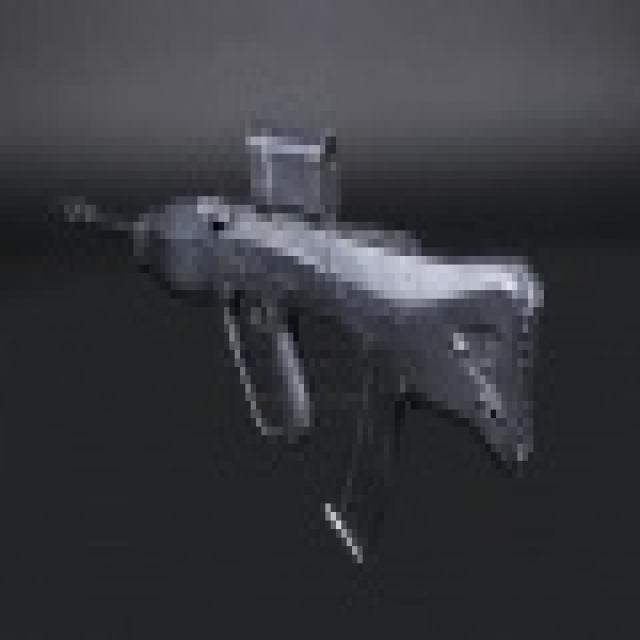Gun: (38, 96, 571, 535)
